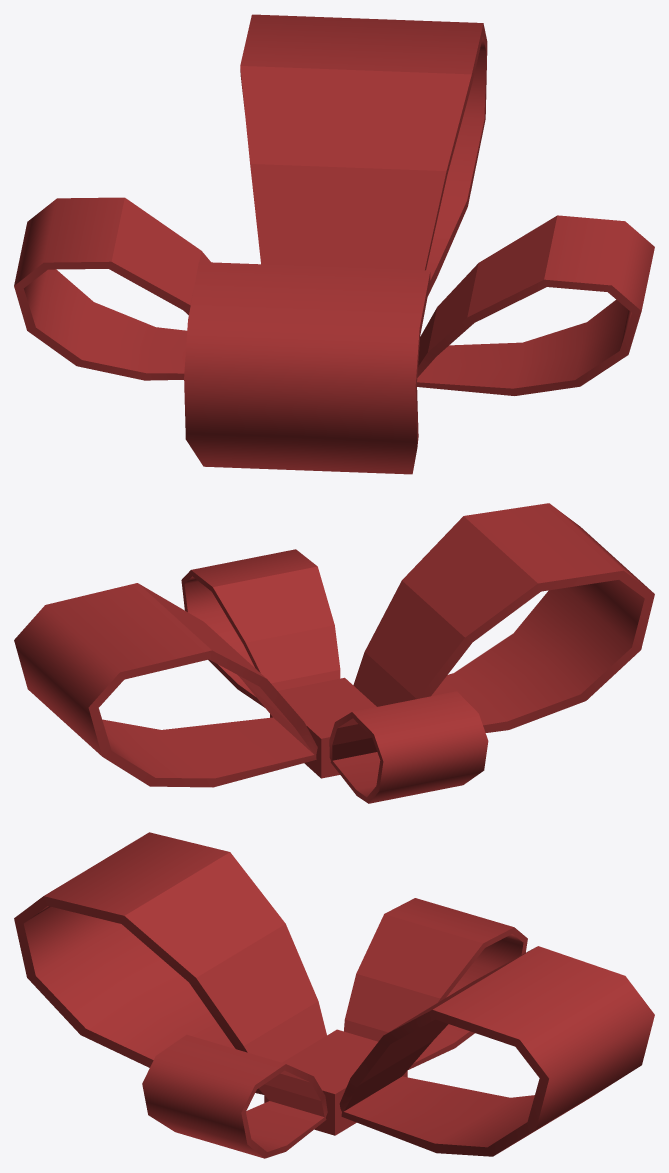
The model's file is M_Bow_01.FBX.
The picture shows the model from 3 angles, top to bottom: view 1: azimuth 30°, elevation 25°; view 2: azimuth 150°, elevation 25°; view 3: azimuth 270°, elevation 25°; orthographic projection. The views are drawn at different scales.
Visible parts, largest first — view 1: Box010; view 2: Box010; view 3: Box010.
Boxes of the visible parts, x1,y1,x2,y2 form: Box010: (14, 14, 654, 474); Box010: (14, 503, 654, 803); Box010: (14, 832, 654, 1158).
Size of the model in its own units: 30.19 by 10.94 by 36.81.
